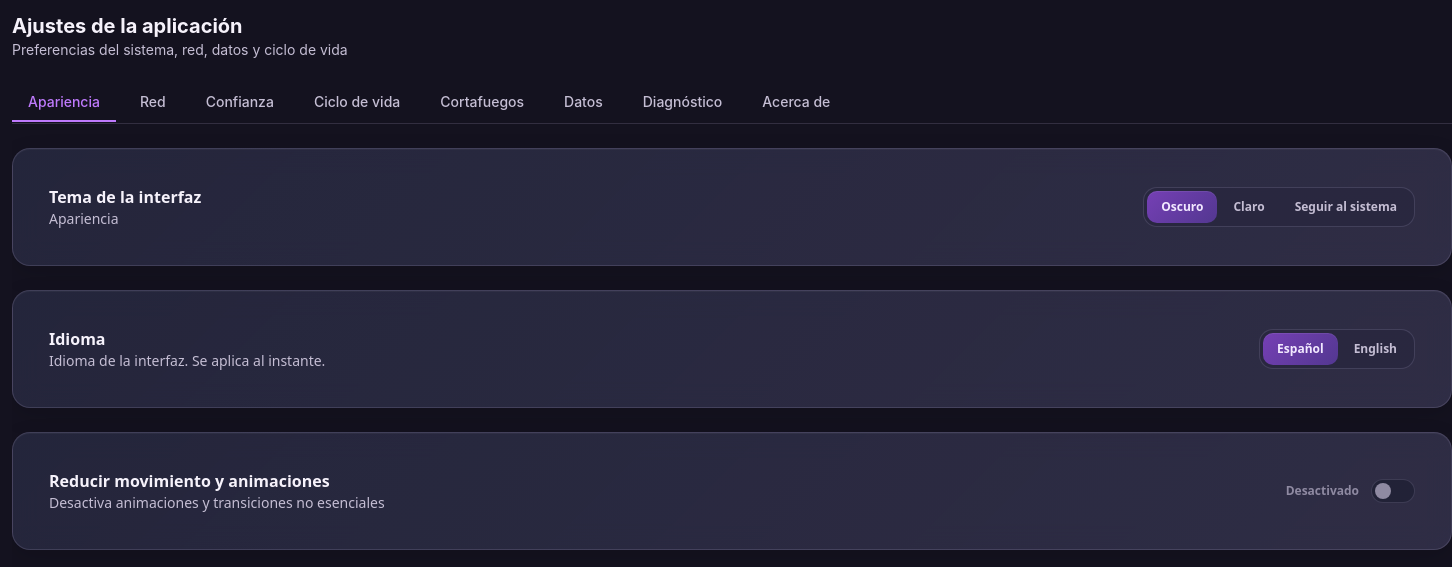
Test case: SettingsScreen › permite cambiar a la pestaña de red y muestra opciones de puerto y mDNS
Click the tab "Red": (153, 103) [124,84,182,122]
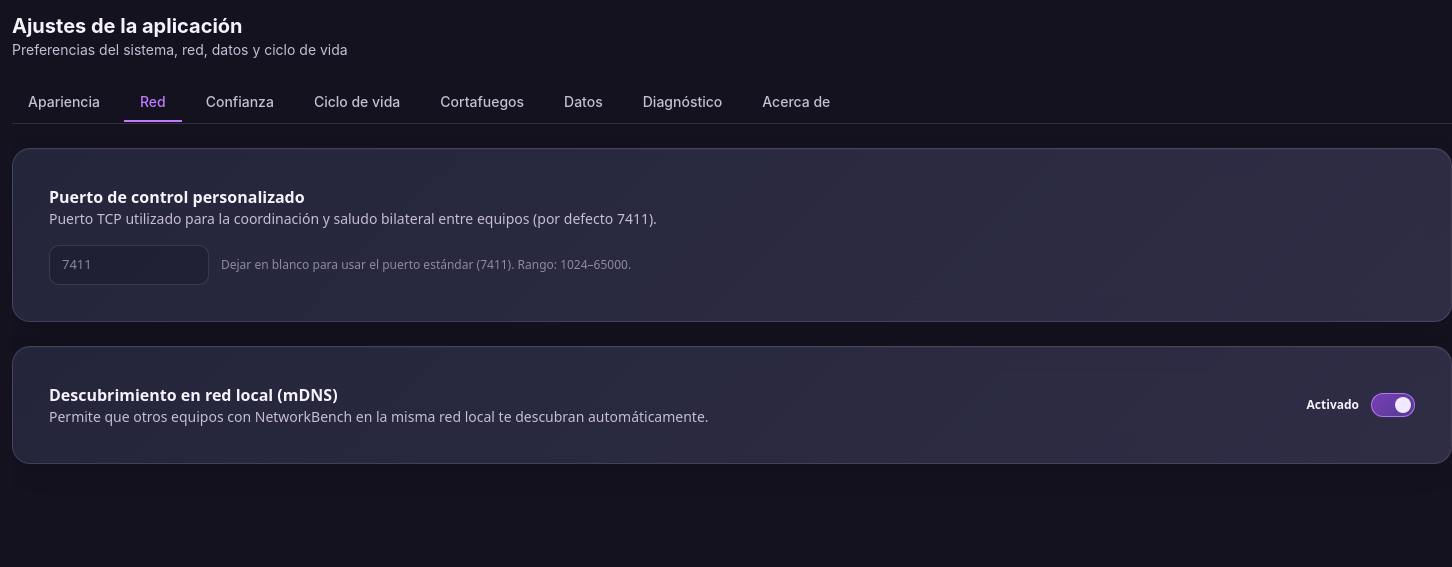
Now the number field with placeholder "7411" is shown, box [49,245,209,284]
